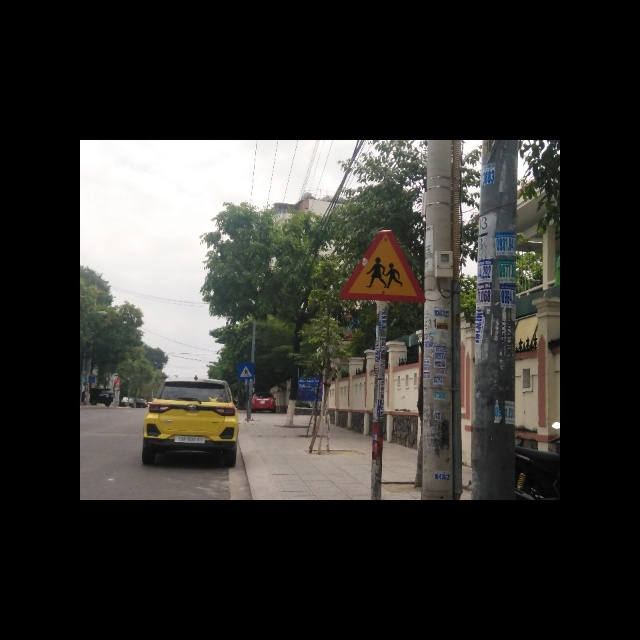Trẻ em ngang qua: (343, 231, 426, 304)
Đường dành cho người đi bộ: (238, 360, 256, 379)
